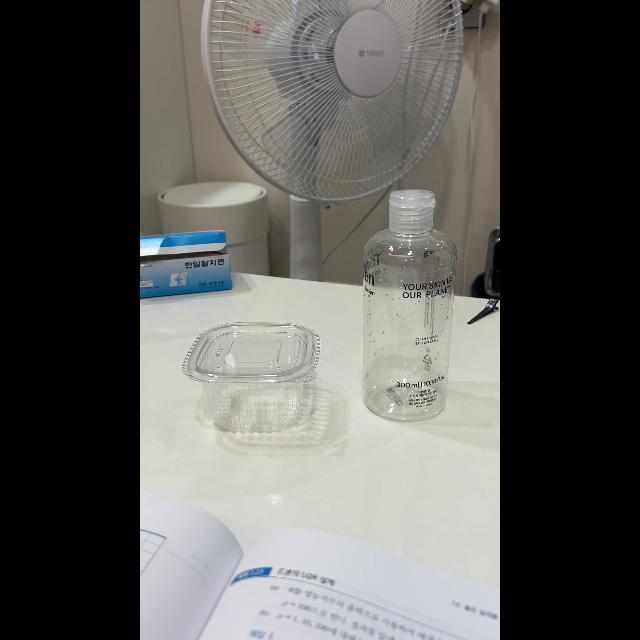clean: (362, 192, 456, 414), (192, 327, 316, 429)
